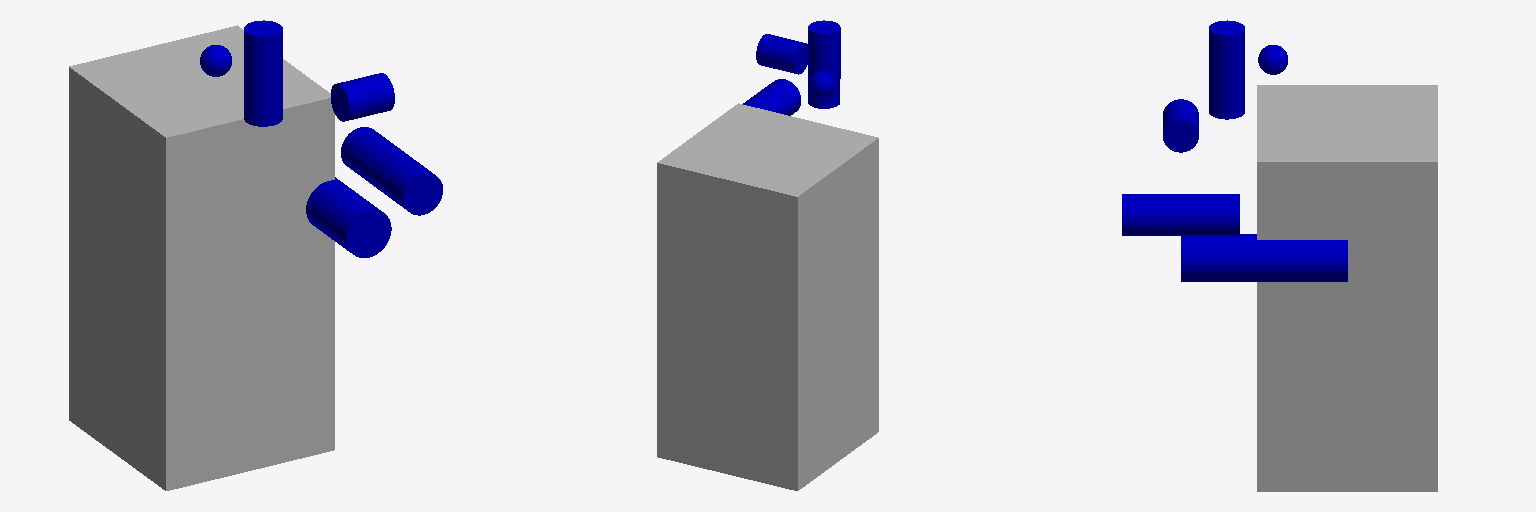
URDF robot description (spacerobot):
<?xml version="1.0"?>
<robot name="spacerobot">
    <!-- Materials -->
    <material name="blue">
        <color rgba="0 0 0.8 1"/>
    </material>
    <material name="silver">
        <color rgba="0.75 0.75 0.75 1"/>
    </material>
    
    <link name="chasersat">
        <visual>
            <geometry>
                <box size="0.6 0.6 1.2"/>
            </geometry>
            <material name="silver"/>
        </visual>
        <collision>
            <geometry>
                <box size="0.6 0.6 1.2"/>
            </geometry>
        </collision>
        <inertial>
            <mass value="419.8441"/>
            <inertia ixx="83.97" ixy="0" ixz="0" iyy="83.97" iyz="0" izz="83.97"/>
        </inertial>
    </link>

    <!-- Shoulder link -->
    <joint name="shoulder_pan_joint" type="revolute">
        <parent link="chasersat"/>
        <child link="shoulder_link"/>
        <origin xyz="0 0 0.240" rpy="0 0 -1.57"/>
        <axis xyz="0 0 1"/>
        <limit lower="-3.14" upper="3.14" effort="150" velocity="3.14"/>
        <dynamics damping="1" friction="0"/>
    </joint>
    
    <link name="shoulder_link">
        <visual>
            <geometry>
                <cylinder radius="0.08" length="0.277"/>
            </geometry>
            <origin xyz="0 0.1385 0" rpy="1.57 0 0"/>
            <material name="blue"/>
        </visual>
        <collision>
            <geometry>
                <cylinder radius="0.08" length="0.277"/>
            </geometry>
            <origin xyz="0 0.1385 0" rpy="1.57 0 0"/>
        </collision>
        <inertial>
            <mass value="3.7"/>
            <origin xyz="-0.064465 0 0" rpy="0 0 0"/>
            <inertia ixx="0.0067" ixy="0" ixz="0" iyy="0.0064" iyz="0" izz="0.0067"/>
        </inertial>
    </link>
    
    <!-- Upper arm link -->
    <joint name="shoulder_lift_joint" type="revolute">
        <parent link="shoulder_link"/>
        <child link="upper_arm_link"/>
        <origin xyz="0 0.277 0" rpy="-1.57 0 3.14"/>
        <axis xyz="0 0 1"/>
        <limit lower="-3.14" upper="3.14" effort="150" velocity="3.14"/>
        <dynamics damping="1" friction="0"/>
    </joint>
    
    <link name="upper_arm_link">
        <visual>
            <geometry>
                <cylinder radius="0.08" length="0.55"/>
            </geometry>
            <origin xyz="-0.275 0 0" rpy="0 1.57 0"/>
            <material name="blue"/>
        </visual>
        <collision>
            <geometry>
                <cylinder radius="0.08" length="0.55"/>
            </geometry>
            <origin xyz="-0.275 0 0" rpy="0 1.57 0"/>
        </collision>
        <inertial>
            <mass value="1.0"/>
            <inertia ixx="1" ixy="0" ixz="0" iyy="1" iyz="0" izz="1"/>
        </inertial>
    </link>
    
    <!-- Forearm link -->
    <joint name="elbow_joint" type="revolute">
        <parent link="upper_arm_link"/>
        <child link="forearm_link"/>
        <origin xyz="-0.55 0 0" rpy="1.57 -1.57 0"/>
        <axis xyz="0 0 1"/>
        <limit lower="-3.14" upper="3.14" effort="150" velocity="3.14"/>
        <dynamics damping="1" friction="0"/>
    </joint>
    
    <link name="forearm_link">
        <visual>
            <geometry>
                <cylinder radius="0.07" length="0.39"/>
            </geometry>
            <origin xyz="-0.081 0 0.195" rpy="1.57 0 0"/>
            <material name="blue"/>
        </visual>
        <collision>
            <geometry>
                <cylinder radius="0.07" length="0.39"/>
            </geometry>
            <origin xyz="-0.081 0 0.195" rpy="1.57 0 0"/>
        </collision>
        <inertial>
            <mass value="2.275"/>
            <origin xyz="0.11993 0 0.0265" rpy="0 0 0"/>
            <inertia ixx="0.0025" ixy="0" ixz="0" iyy="0.0551" iyz="0" izz="0.0546"/>
        </inertial>
    </link>
    
    <!-- Wrist 1 link -->
    <joint name="wrist_1_joint" type="revolute">
        <parent link="forearm_link"/>
        <child link="wrist_1_link"/>
        <origin xyz="-0.162 0 0.390" rpy="0 -1.5707963 -1.5707963"/>
        <axis xyz="0 0 1"/>
        <limit lower="-3.14" upper="3.14" effort="28" velocity="3.14"/>
        <dynamics damping="1" friction="0"/>
    </joint>
    
    <link name="wrist_1_link">
        <visual>
            <geometry>
                <cylinder radius="0.06" length="0.16"/>
            </geometry>
            <origin xyz="0.08 0.185 0" rpy="1.57 0 0"/>
            <material name="blue"/>
        </visual>
        <collision>
            <geometry>
                <cylinder radius="0.06" length="0.16"/>
            </geometry>
            <origin xyz="0.08 0.185 0" rpy="1.57 0 0"/>
        </collision>
        <inertial>
            <mass value="1.0"/>
            <inertia ixx="1" ixy="0" ixz="0" iyy="1" iyz="0" izz="1"/>
        </inertial>
    </link>
    
    <!-- Wrist 2 link -->
    <joint name="wrist_2_joint" type="revolute">
        <parent link="wrist_1_link"/>
        <child link="wrist_2_link"/>
        <origin xyz="0.160 0.370 0" rpy="1.5707963 1.5707963 0"/>
        <axis xyz="0 0 1"/>
        <limit lower="-3.14" upper="3.14" effort="28" velocity="3.14"/>
        <dynamics damping="1" friction="0"/>
    </joint>
    
    <link name="wrist_2_link">
        <visual>
            <geometry>
                <cylinder radius="0.06" length="0.305"/>
            </geometry>
            <origin xyz="0.1525 0 -0.08" rpy="1.57 0 0"/>
            <material name="blue"/>
        </visual>
        <collision>
            <geometry>
                <cylinder radius="0.06" length="0.305"/>
            </geometry>
            <origin xyz="0.1525 0 -0.08" rpy="1.57 0 0"/>
        </collision>
        <inertial>
            <mass value="1.0"/>
            <origin xyz="0 0.0018 0.01634" rpy="0 0 0"/>
            <inertia ixx="0.0012" ixy="0" ixz="0" iyy="0.0012" iyz="0" izz="0.0009"/>
        </inertial>
    </link>
    
    <!-- Wrist 3 link -->
    <joint name="wrist_3_joint" type="revolute">
        <parent link="wrist_2_link"/>
        <child link="wrist_3_link"/>
        <origin xyz="0.305 0 -0.160" rpy="0 0 0"/>
        <axis xyz="0 0 1"/>
        <limit lower="-3.14" upper="3.14" effort="28" velocity="3.14"/>
        <dynamics damping="1" friction="0"/>
    </joint>
    
    <link name="wrist_3_link">
        <visual>
            <geometry>
                <sphere radius="0.05"/>
            </geometry>
            <origin xyz="0 0 0" rpy="0 0 0"/>
            <material name="blue"/>
        </visual>
        <collision>
            <geometry>
                <sphere radius="0.05"/>
            </geometry>
            <origin xyz="0 0 0" rpy="0 0 0"/>
        </collision>
        <inertial>
            <mass value="1.0"/>
            <origin xyz="0 0 -0.01159" rpy="0 0 0"/>
            <inertia ixx="0.0000884489143" ixy="0" ixz="0" iyy="0.0000884489143" iyz="0" izz="0.000138534912"/>
        </inertial>
    </link>
</robot>

--- Render facts (derived) ---
3 views of the same robot in one strip: view 1: azimuth 30°, elevation 25°; view 2: azimuth 150°, elevation 25°; view 3: azimuth 270°, elevation 25° (orthographic).
Robot: spacerobot — 7 links, 6 joints (6 revolute); root link chasersat; default pose: every joint at zero.
Visible links, largest first — view 1: chasersat, forearm_link, upper_arm_link, wrist_2_link, wrist_1_link, wrist_3_link; view 2: chasersat, wrist_2_link, wrist_1_link, forearm_link, wrist_3_link; view 3: chasersat, upper_arm_link, forearm_link, wrist_2_link, wrist_1_link, wrist_3_link.
Boxes of the visible links, x1,y1,x2,y2 form: chasersat: (69,25,334,490); forearm_link: (341,127,442,215); upper_arm_link: (306,177,391,257); wrist_2_link: (244,20,282,126); wrist_1_link: (331,73,394,121); wrist_3_link: (200,45,231,76); chasersat: (657,103,878,490); wrist_2_link: (808,20,840,108); wrist_1_link: (756,34,807,74); forearm_link: (743,79,800,115); wrist_3_link: (809,71,835,97); chasersat: (1257,85,1437,491); upper_arm_link: (1181,234,1347,281); forearm_link: (1122,194,1239,235); wrist_2_link: (1209,20,1244,119); wrist_1_link: (1163,99,1198,152); wrist_3_link: (1258,45,1287,74).
Size in the robot's own frame: 0.728 by 1.05 by 1.54 metres.
Geometry: primitives only (box / cylinder / sphere), no mesh files.